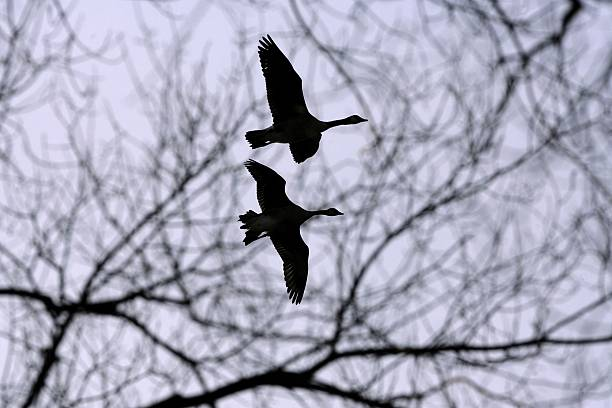goose: (233, 157, 346, 307), (243, 32, 370, 162)
